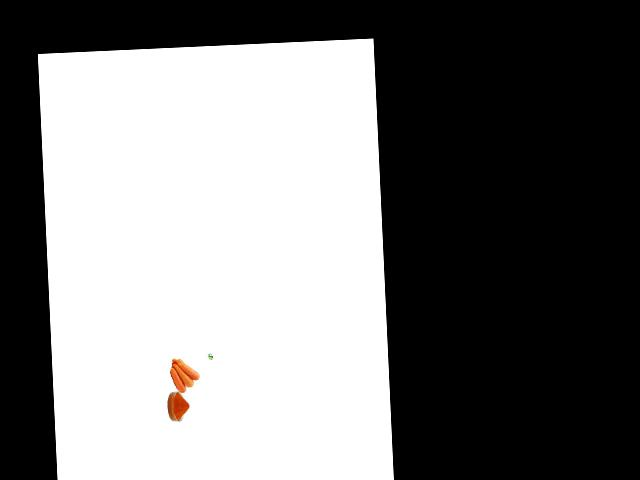carrot: (167, 365, 186, 393)
